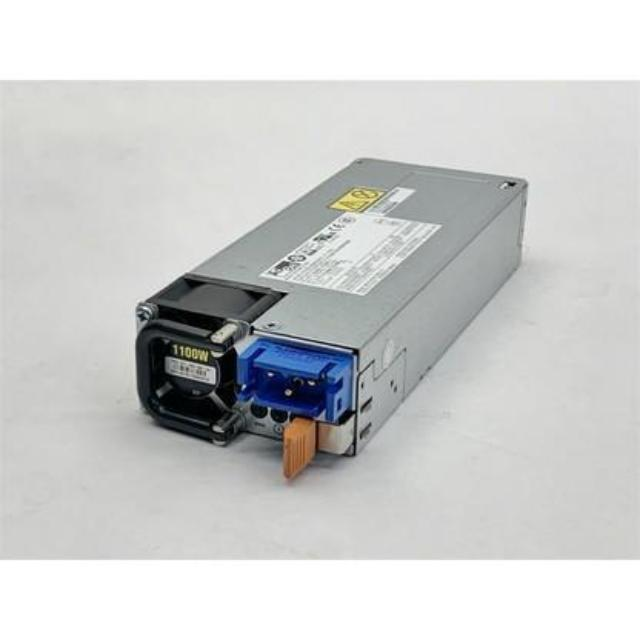PSU: (121, 156, 541, 490)
